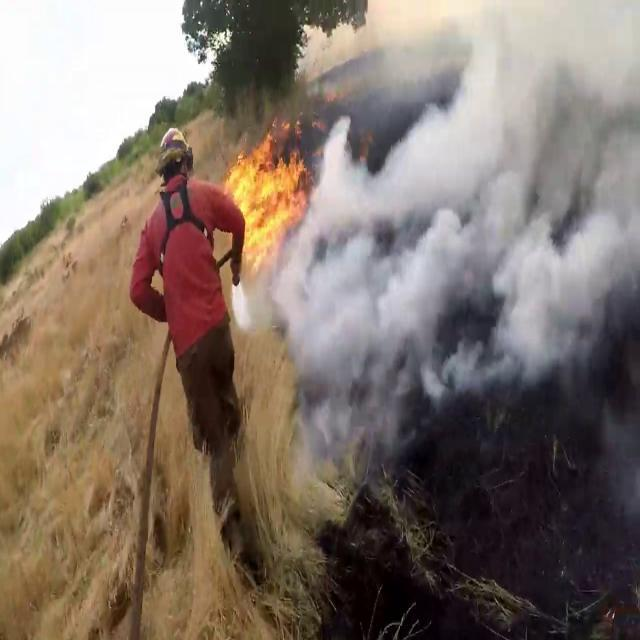Fire: (222, 124, 310, 268)
Smoke: (274, 0, 640, 472)
